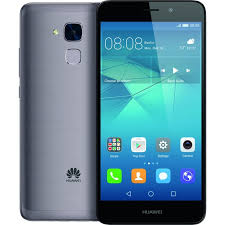huawei: (96, 1, 208, 225), (19, 1, 98, 222)
